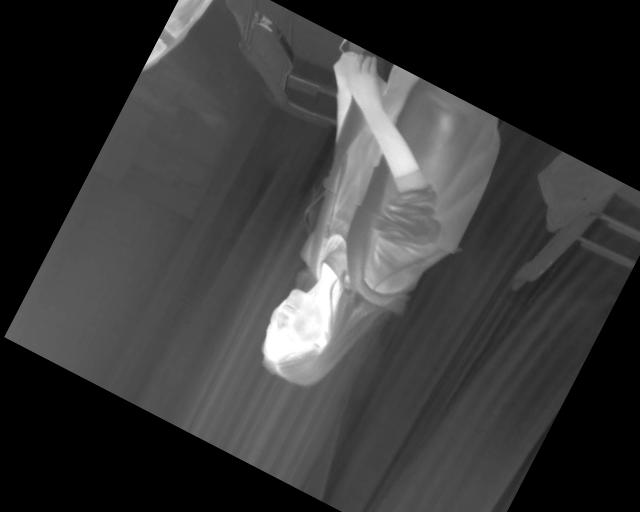face: (246, 281, 357, 398)
